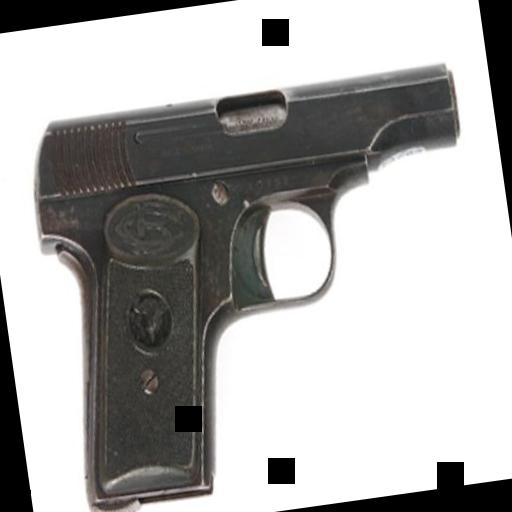Handgun: (16, 59, 509, 512)
